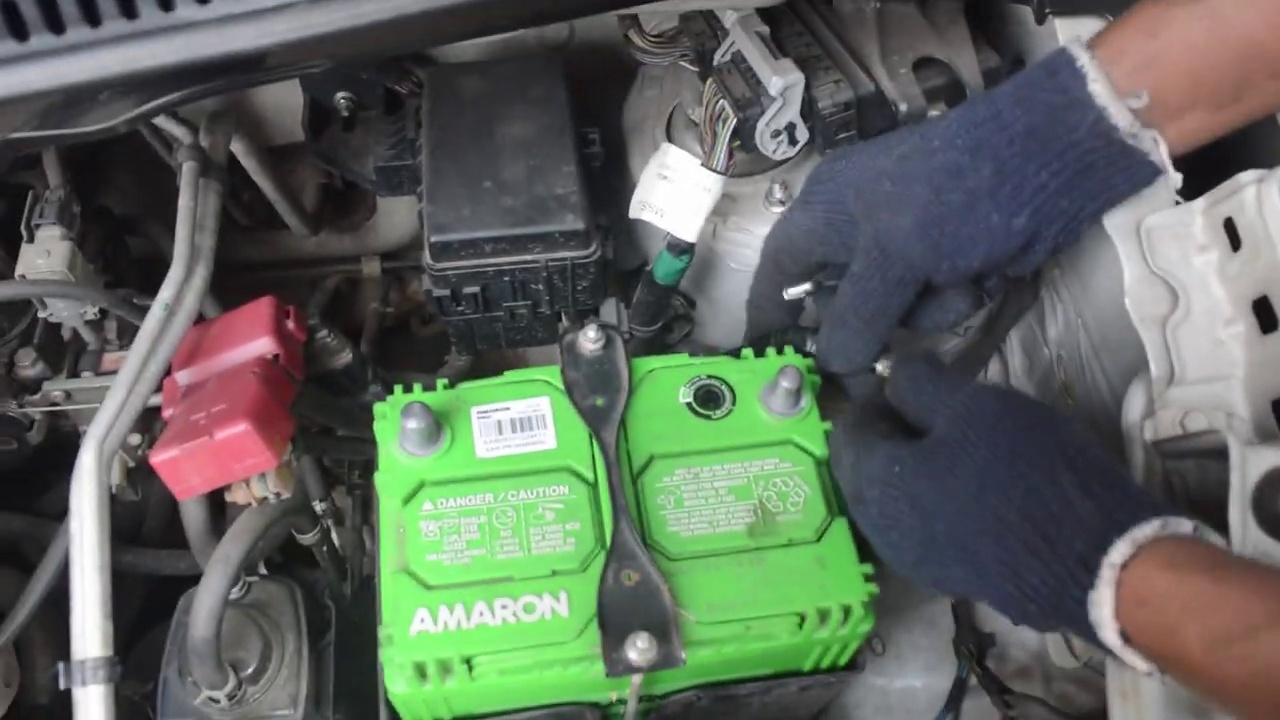battery: (373, 339, 851, 684)
neg_disconnected: (727, 347, 830, 436)
neg_touched: (750, 250, 929, 484)
pos_disconnected: (127, 358, 463, 507)
